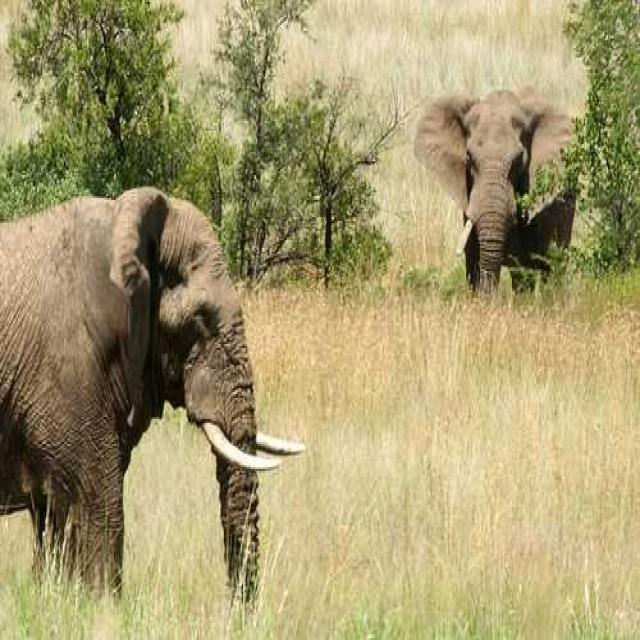Elephant: (0, 185, 306, 613), (412, 84, 579, 300)
